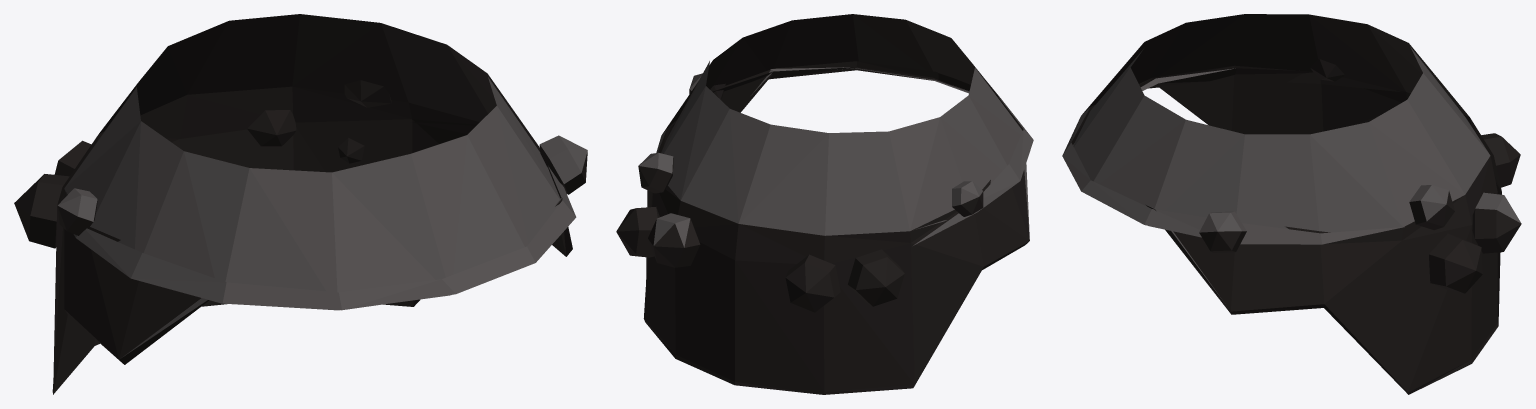
The model's file is hair_curly_01_hatcut.glb.
3 renders of one model, left to right at view 1: azimuth 30°, elevation 25°; view 2: azimuth 150°, elevation 25°; view 3: azimuth 270°, elevation 25°, orthographic. The views are drawn at different scales.
Parts seen in each view (by area): view 1: hair_curly_01_hatcut; view 2: hair_curly_01_hatcut; view 3: hair_curly_01_hatcut.
Boxes of the visible parts, left/top/right/bottom form: hair_curly_01_hatcut: left=14, top=14, right=587, bottom=394; hair_curly_01_hatcut: left=616, top=14, right=1033, bottom=394; hair_curly_01_hatcut: left=1062, top=14, right=1521, bottom=394.
Size of the model in its own units: 0.2689 by 0.1809 by 0.291.
Materials: 1 (1 with a texture image).
